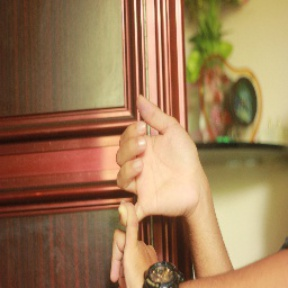S: (103, 92, 208, 288)
